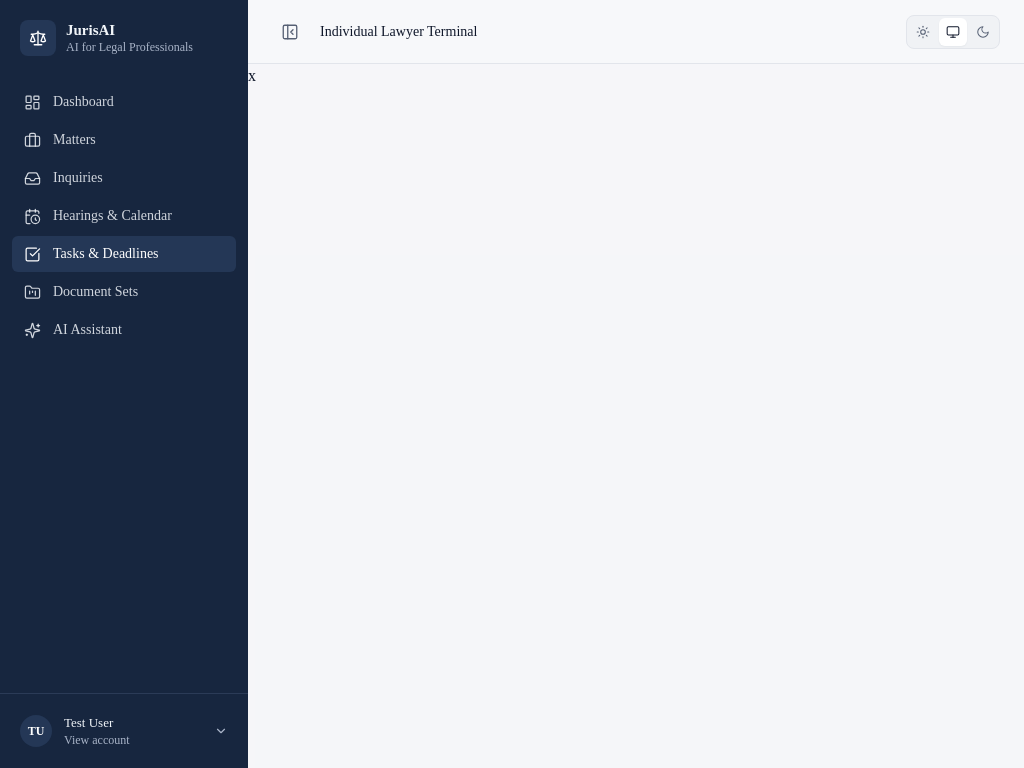
AppShell › account menu closes on Escape and on outside press, and exposes aria-expanded
Click the button "TU Test User View account". click: x=124, y=731
box: [12,706,236,756]
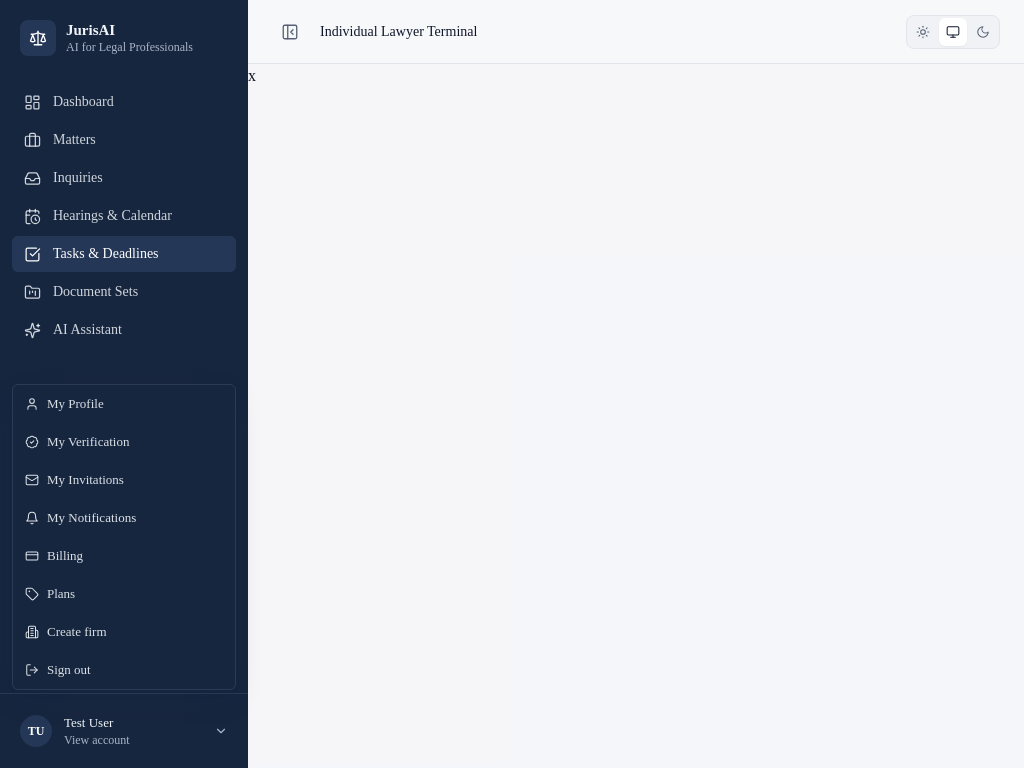
Result: the button "Sign out" is shown at [13,651,235,689]
Press Escape
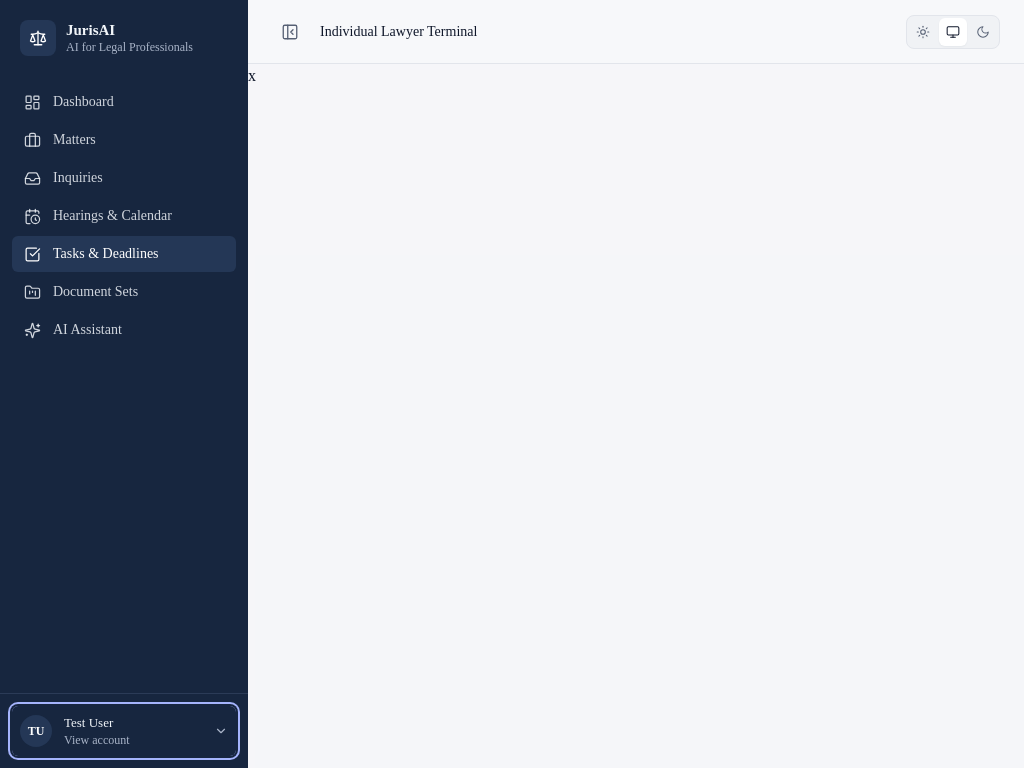
Result: the button "Sign out" is gone
Click the button "TU Test User View account". click: x=124, y=731
box: [12,706,236,756]
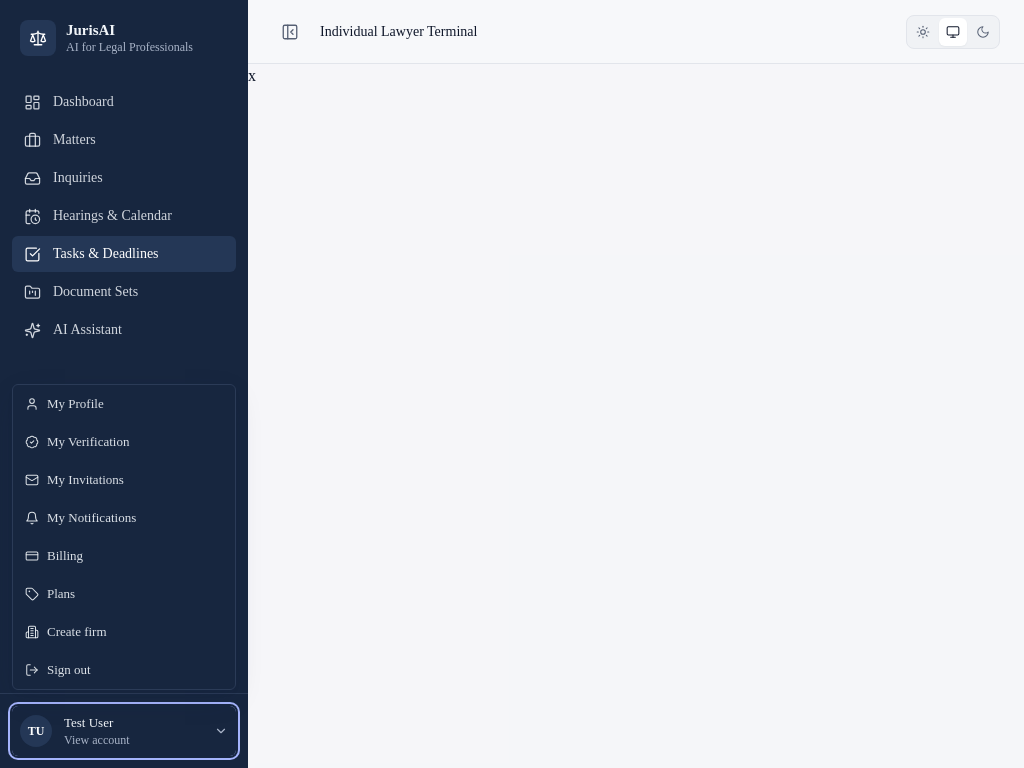
Press the mouse on the element that starts with "Skip to main content" at x=512, y=384, box [0,0,1023,767]
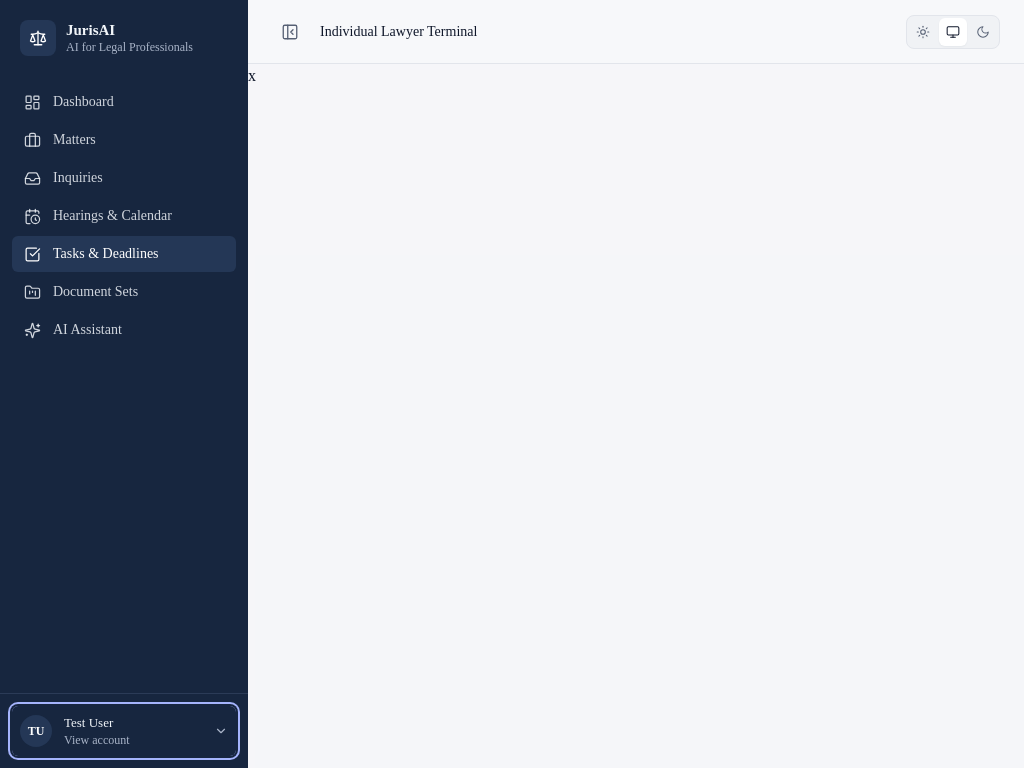
Result: the button "Sign out" is gone
